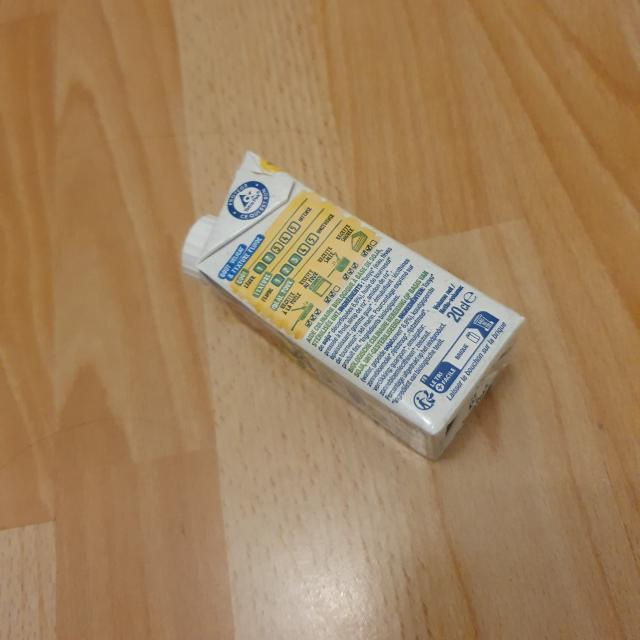PaperCardboard: (175, 148, 538, 459)
